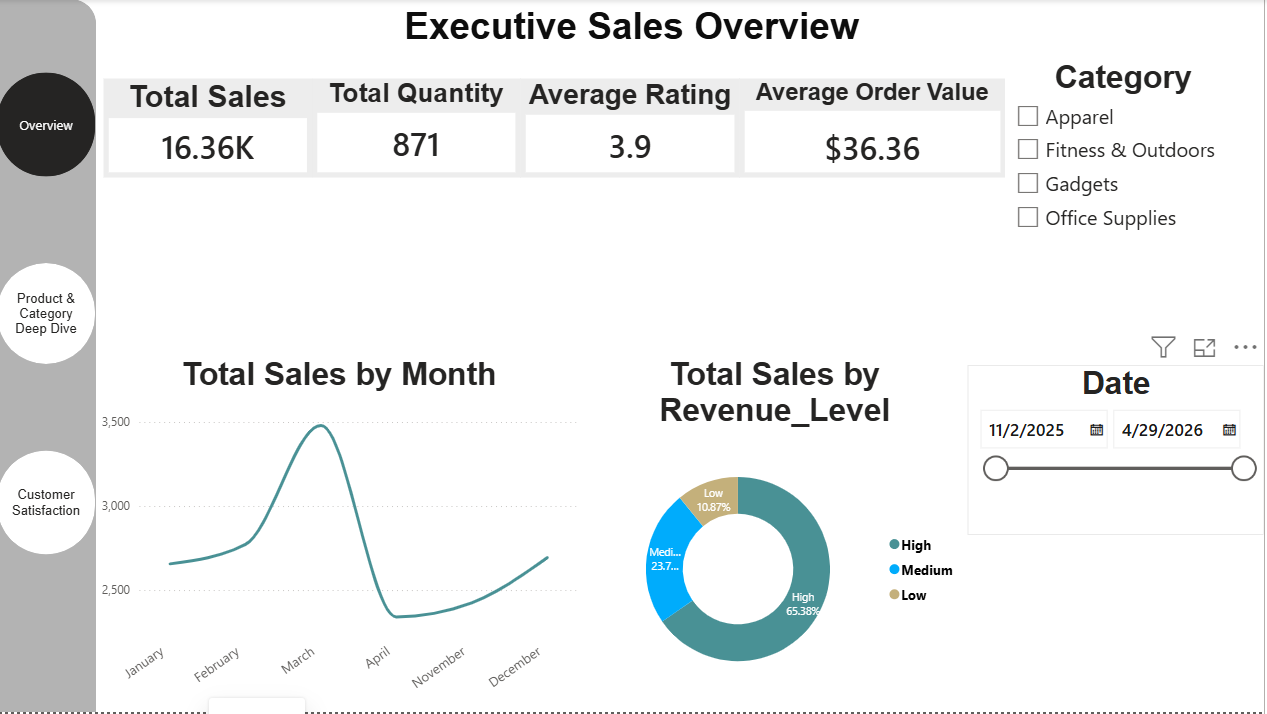

Layout of this report page (visuals, bound fields, positions):
{"tool":"powerbi","page":{"name":"Overview","canvas":[1280,720],"ordinal":0},"visuals":[{"type":"textbox","box":[355.8,0,569.3,60.6],"z":0},{"type":"shape","box":[0,0,100.2,720],"z":1000},{"type":"cardVisual","title":"Total Sales","fields":{"Data":["Sheet1.Total Sales"]},"box":[107,80.3,210.5,99.9],"z":2000},{"type":"cardVisual","title":"Total Quantity","fields":{"Data":["Sheet1.Total Quantity"]},"box":[317.5,80.3,210.5,99.9],"z":3000},{"type":"cardVisual","title":"Average Rating","fields":{"Data":["Sheet1.Average Rating"]},"box":[527.9,80.3,221.1,99.9],"z":4000},{"type":"cardVisual","title":"Average Order Value","fields":{"Data":["Sheet1.AOV"]},"box":[749.5,80.3,268,99.9],"z":5000},{"type":"lineChart","fields":{"Category":["Sheet1.Date.Variation.Date Hierarchy.Month"],"Y":["Sheet1.Total Sales"]},"box":[99.9,360.4,490.6,358.9],"z":6000},{"type":"donutChart","fields":{"Category":["Sheet1.Revenue_Level"],"Y":["Sheet1.Total Sales"]},"box":[590.5,360.4,389.2,358.9],"z":7000},{"type":"slicer","title":"Category","fields":{"Values":["Sheet1.Category"]},"box":[1017.5,60.6,239.2,196.8],"z":8000},{"type":"slicer","title":"Date","fields":{"Values":["Sheet1.Date"]},"box":[979.7,369.5,299.8,171.1],"z":9000},{"type":"pageNavigator","box":[0,74.2,99.9,106],"z":10000},{"type":"pageNavigator","box":[0,266.5,99.9,103],"z":11000},{"type":"pageNavigator","box":[0,455.8,99.9,106],"z":12000},{"type":"actionButton","box":[0,257.4,99.9,112.1],"z":13000},{"type":"actionButton","box":[1.5,451.2,99.9,109],"z":14000}]}

Visuals, with their boxes in screenshot pixels (x1, y1, x2, y2), scaled from the page's 1280x720 canvas onto the 1267x714 screenshot:
textbox: [352,0,916,60]
shape: [0,0,99,713]
"Total Sales" cardVisual: [106,80,314,179]
"Total Quantity" cardVisual: [314,80,523,179]
"Average Rating" cardVisual: [523,80,741,179]
"Average Order Value" cardVisual: [742,80,1007,179]
lineChart - Sheet1.Date.Variation.Date Hierarchy.Month x Sheet1.Total Sales: [99,357,585,713]
donutChart - Sheet1.Revenue_Level x Sheet1.Total Sales: [585,357,970,713]
"Category" slicer: [1007,60,1244,255]
"Date" slicer: [970,366,1266,536]
pageNavigator: [0,74,99,179]
pageNavigator: [0,264,99,366]
pageNavigator: [0,452,99,557]
actionButton: [0,255,99,366]
actionButton: [1,447,100,556]
